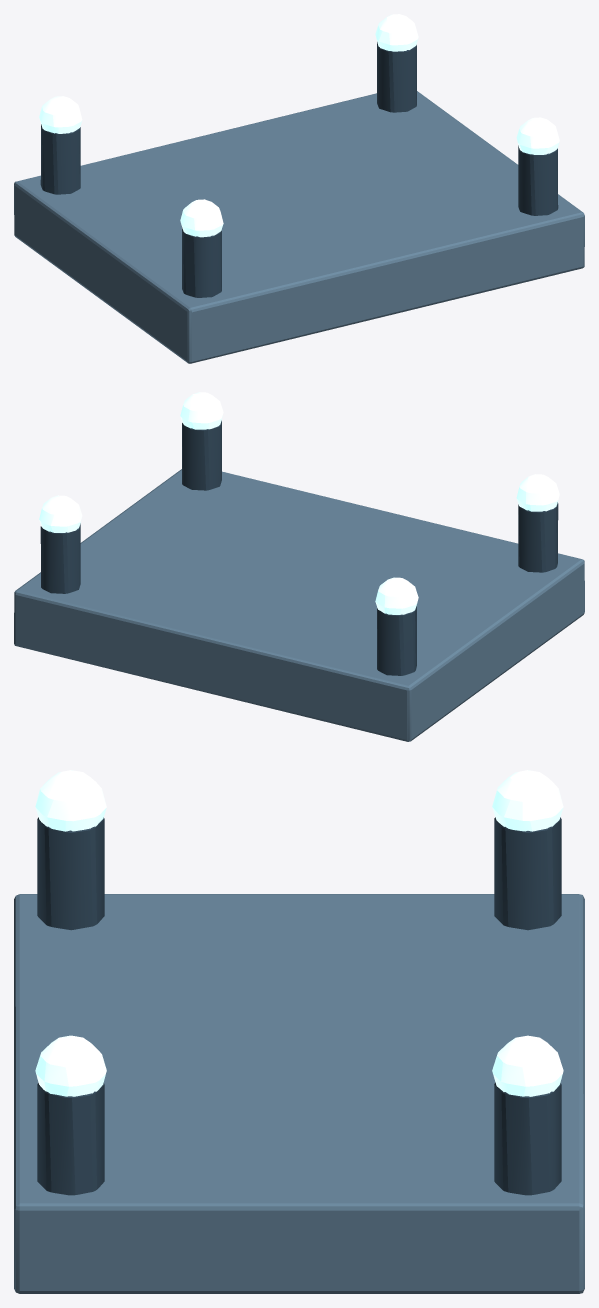
Rendered from SM_Rheinufer_Ponton_LOD1.fbx.
The picture shows the model from 3 angles, top to bottom: view 1: azimuth 30°, elevation 25°; view 2: azimuth 150°, elevation 25°; view 3: azimuth 270°, elevation 25°; orthographic projection. The views are drawn at different scales.
Visible parts, largest first — view 1: SM_Rheinufer_Ponton_LOD1; view 2: SM_Rheinufer_Ponton_LOD1; view 3: SM_Rheinufer_Ponton_LOD1.
Part boxes in pixels (left/top/right/bottom): SM_Rheinufer_Ponton_LOD1: left=14, top=14, right=584, bottom=363; SM_Rheinufer_Ponton_LOD1: left=14, top=392, right=584, bottom=741; SM_Rheinufer_Ponton_LOD1: left=14, top=770, right=584, bottom=1293.
Size of the model in its own units: 2.6 by 0.905 by 2.
